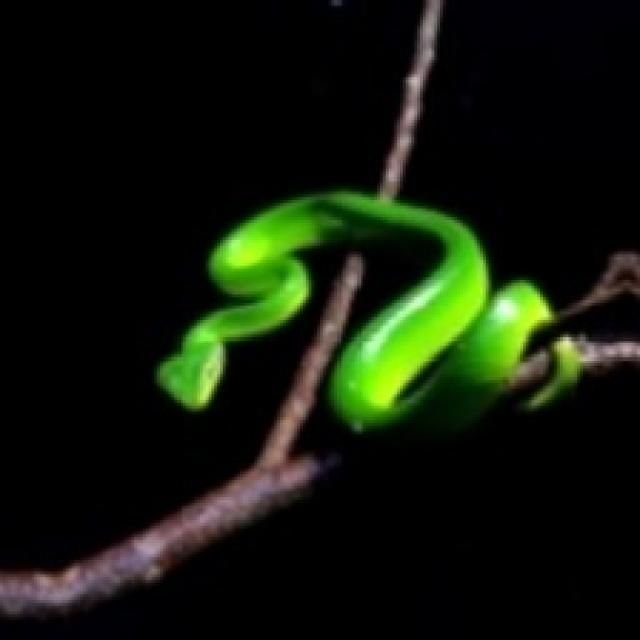north ph temple pitviper: (157, 191, 551, 429)
